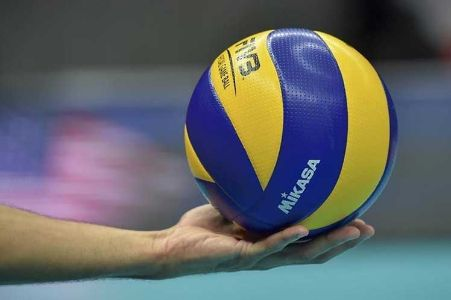voleibol: (184, 27, 400, 239)
